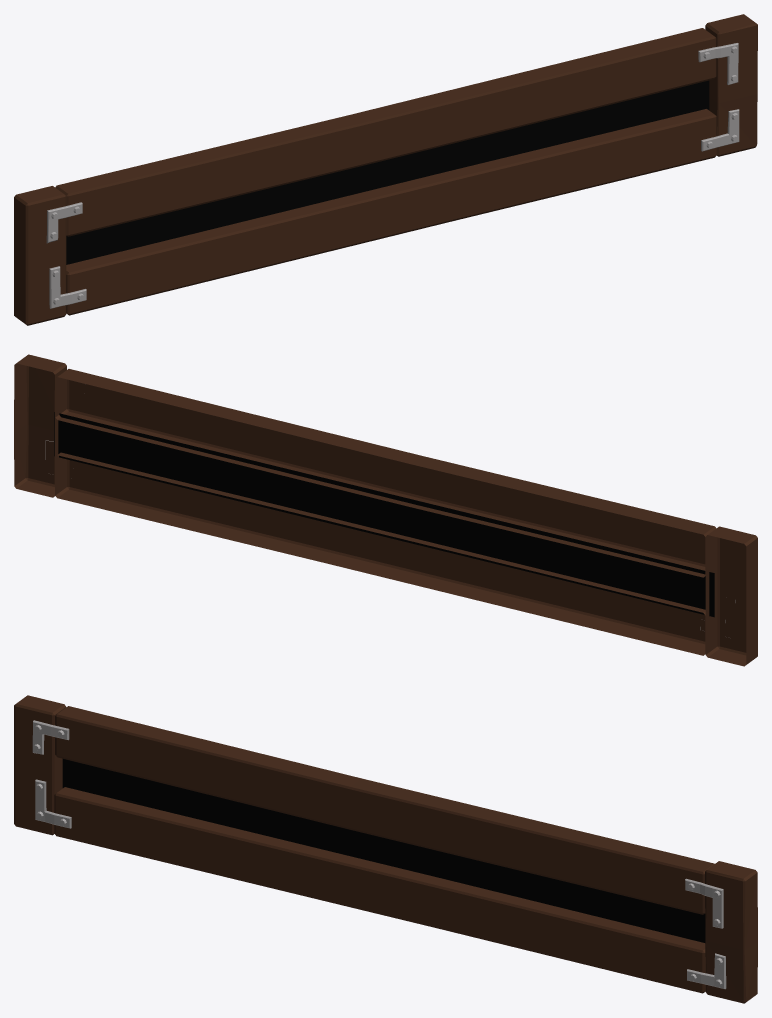
File: ProjectileWoodenWallTrap.fbx
3 views of the same model, one above another, from view 1: azimuth 30°, elevation 25°; view 2: azimuth 150°, elevation 25°; view 3: azimuth 330°, elevation 25° (orthographic).
Parts seen in each view (by area): view 1: ProjectileWoodenWallTrap; view 2: ProjectileWoodenWallTrap; view 3: ProjectileWoodenWallTrap.
Boxes of the visible parts, x1=… form: ProjectileWoodenWallTrap: x1=14, y1=14, x2=757, y2=325; ProjectileWoodenWallTrap: x1=14, y1=354, x2=757, y2=666; ProjectileWoodenWallTrap: x1=14, y1=695, x2=757, y2=1003.
Bounding box in the file's own units: 113 × 18.45 × 4.18.
